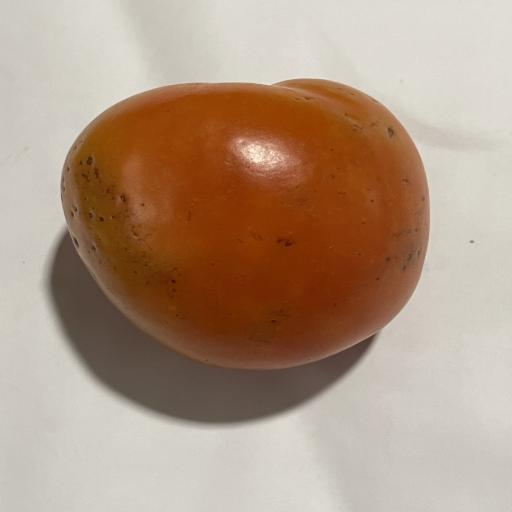unripe: (60, 79, 429, 370)
